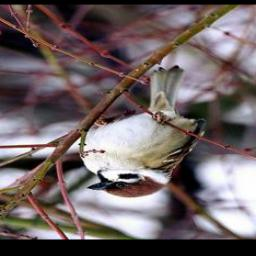Sparrow: (78, 67, 209, 198)
